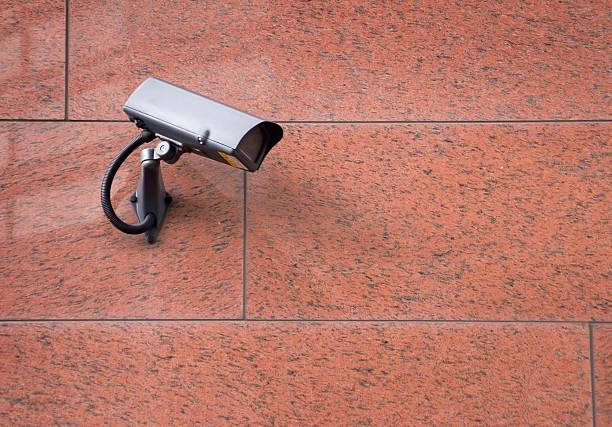camera: (88, 52, 292, 239)
